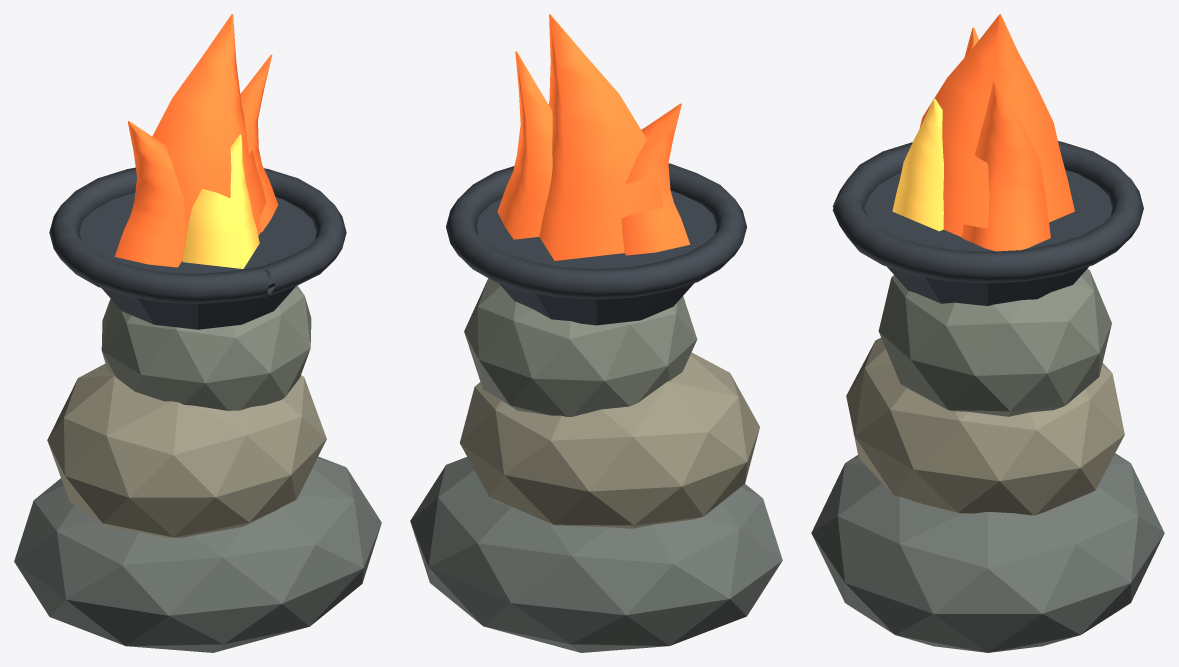
The model's file is crag_beacon.glb.
3 renders of one model, left to right at view 1: azimuth 30°, elevation 25°; view 2: azimuth 150°, elevation 25°; view 3: azimuth 270°, elevation 25°, orthographic. The views are drawn at different scales.
Visible parts, largest first — view 1: Pigment_767d77, Pigment_a49f88, Pigment_424951, Pigment_e46e31, Pigment_8d9485, Pigment_efc258; view 2: Pigment_767d77, Pigment_a49f88, Pigment_e46e31, Pigment_424951, Pigment_8d9485; view 3: Pigment_767d77, Pigment_a49f88, Pigment_8d9485, Pigment_424951, Pigment_e46e31, Pigment_efc258.
Part boxes in pixels (x1,y1,x2,y2): Pigment_767d77: (14, 456, 381, 652); Pigment_a49f88: (47, 363, 326, 537); Pigment_424951: (49, 167, 346, 329); Pigment_e46e31: (114, 14, 278, 267); Pigment_8d9485: (101, 285, 311, 410); Pigment_efc258: (182, 134, 259, 268); Pigment_767d77: (410, 457, 782, 652); Pigment_a49f88: (460, 352, 759, 528); Pigment_e46e31: (497, 14, 690, 260); Pigment_424951: (446, 163, 746, 325); Pigment_8d9485: (464, 278, 697, 416); Pigment_767d77: (811, 453, 1164, 652); Pigment_a49f88: (846, 338, 1124, 515); Pigment_8d9485: (878, 269, 1111, 416); Pigment_424951: (832, 141, 1143, 305); Pigment_e46e31: (920, 14, 1074, 251); Pigment_efc258: (892, 98, 943, 231).
Bounding box in the file's own units: 3.14 × 5.7 × 2.9.
